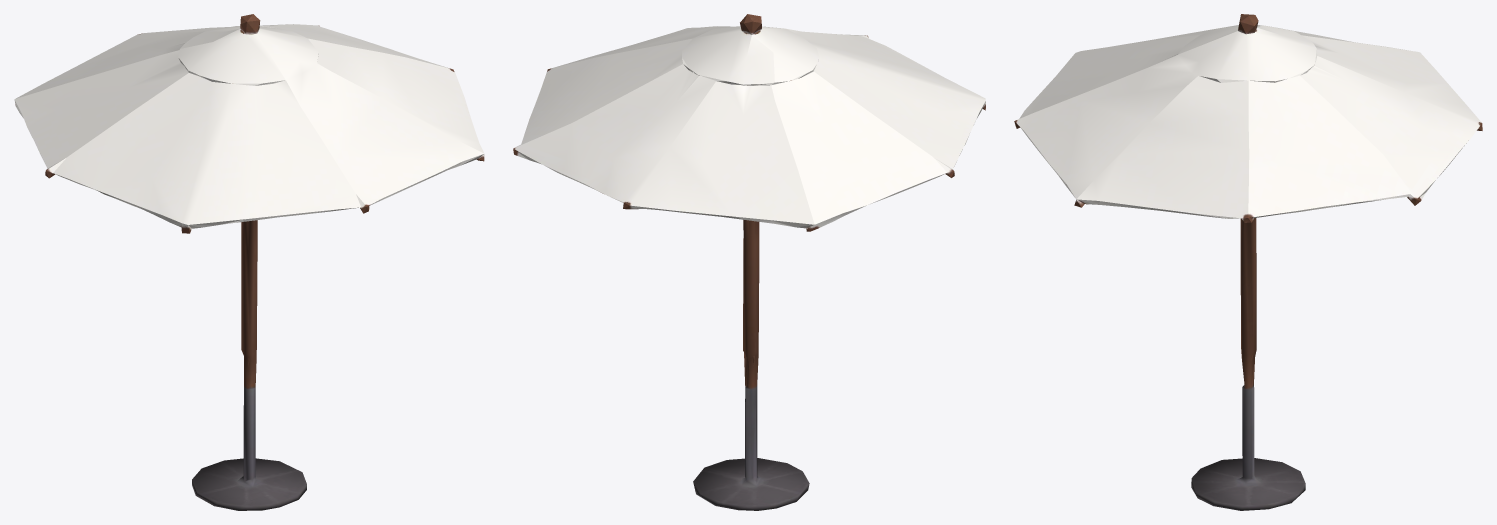
Rendered from umbrella_cafe.glb.
3 renders of one model, left to right at view 1: azimuth 30°, elevation 25°; view 2: azimuth 150°, elevation 25°; view 3: azimuth 270°, elevation 25°, orthographic.
Visible parts, largest first — view 1: body; view 2: body; view 3: body.
Boxes of the visible parts, x1,y1,x2,y2 form: body: [14, 14, 484, 510]; body: [513, 14, 985, 510]; body: [1014, 14, 1482, 510].
Bounding box in the file's own units: 2.3 × 2.55 × 2.29.
1 material, 1 textured.
